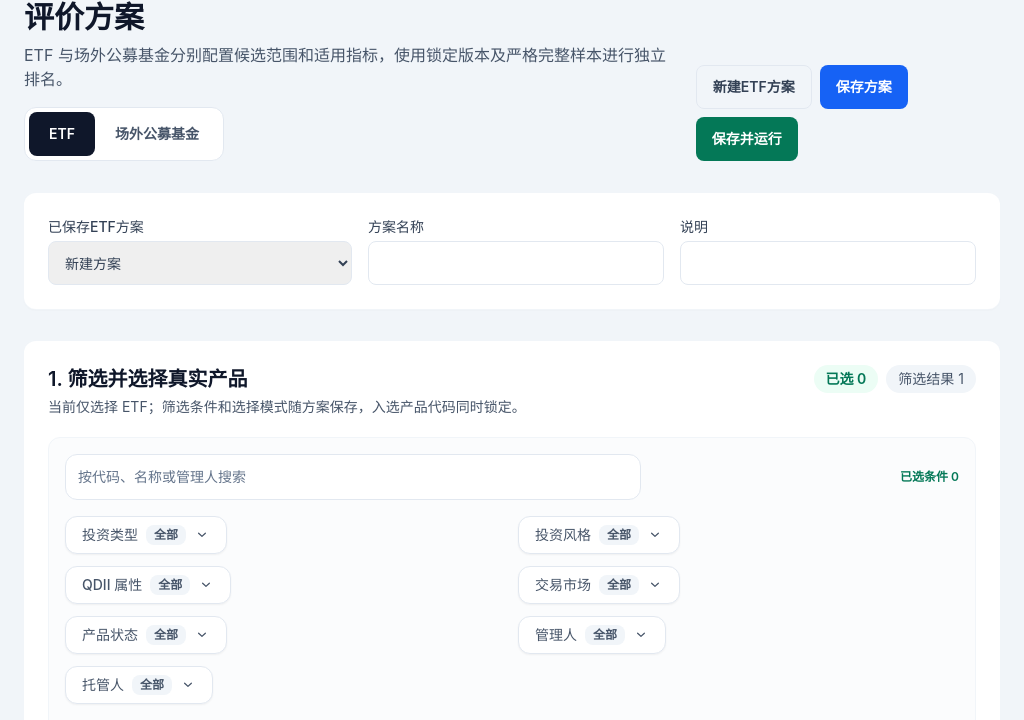
Test: EvaluationPlan › 默认仅加载 ETF 方案、ETF 指标和 ETF 产品并保存同类方案
Type "ETF优选方案" into the field labelled "方案名称" at (516, 263), box [368, 241, 664, 285]
(page scrolled)
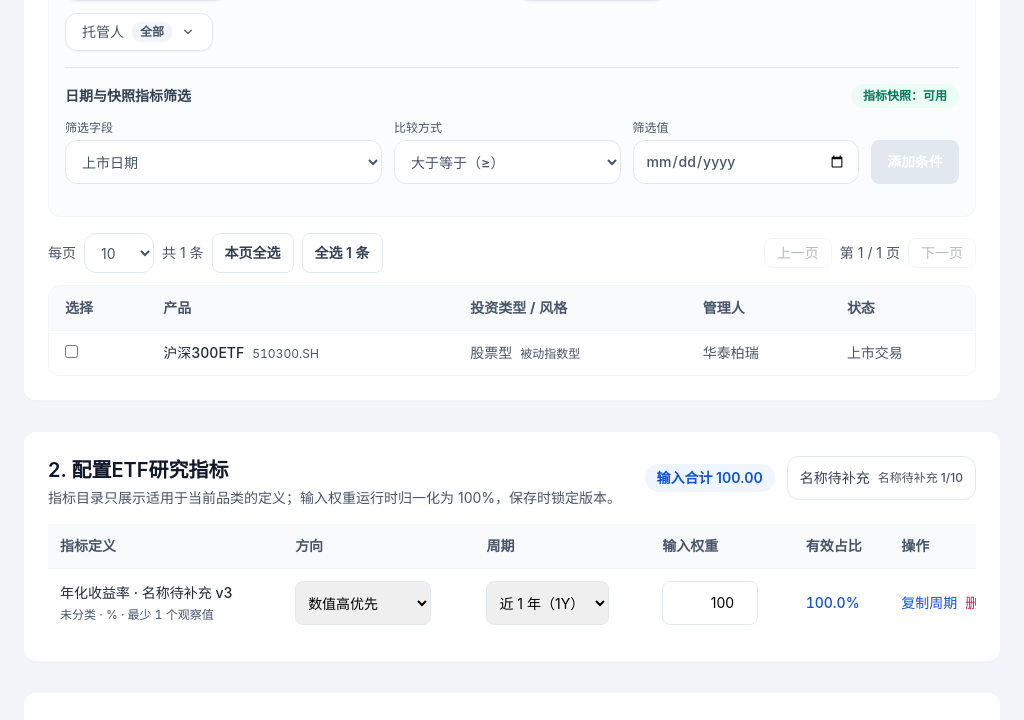
Click the checkbox named "选择 沪深300ETF" at (72, 352), box [65, 345, 78, 358]
(page scrolled)
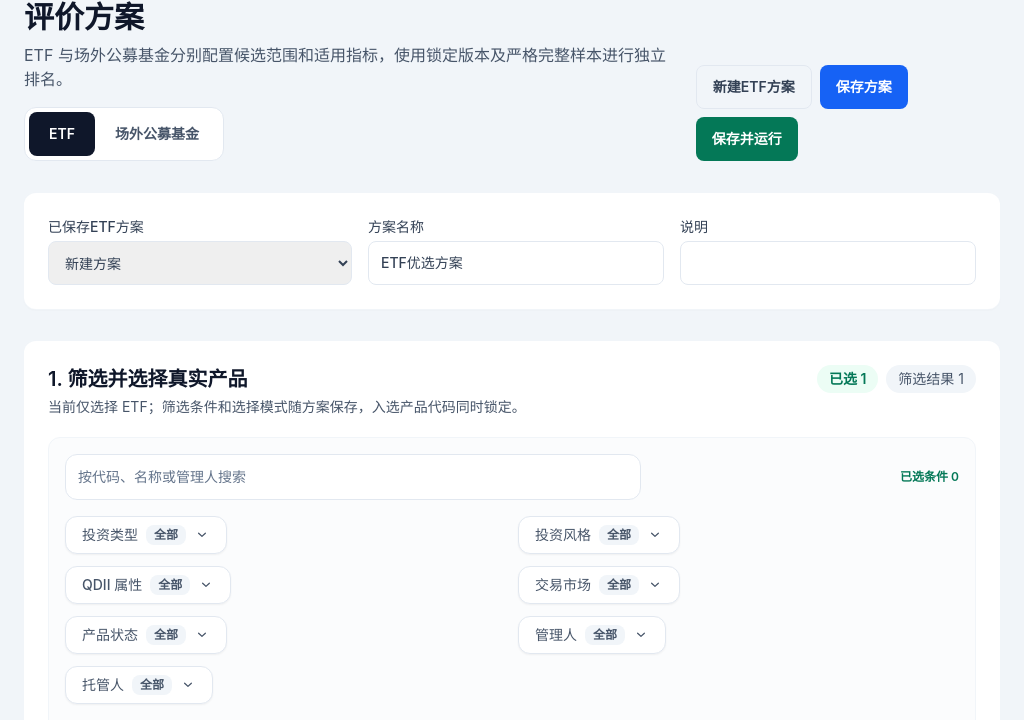
Click the button "保存并运行" at (747, 139), box [696, 117, 798, 161]
(page scrolled)
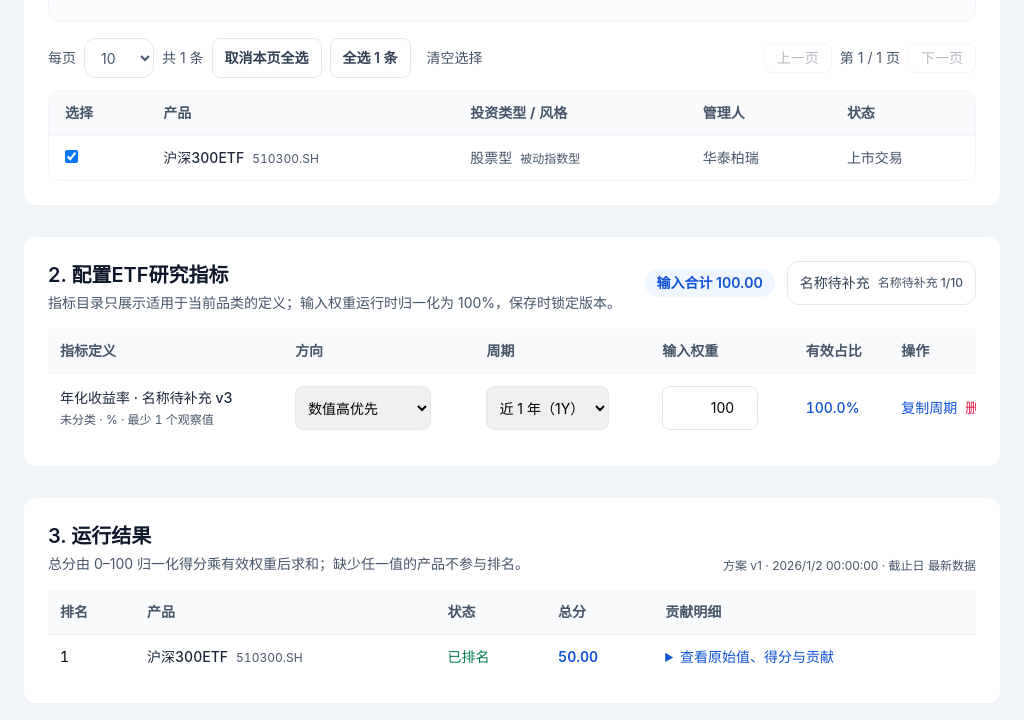
expect the text "已排名" is shown: met, box [448, 648, 490, 665]
